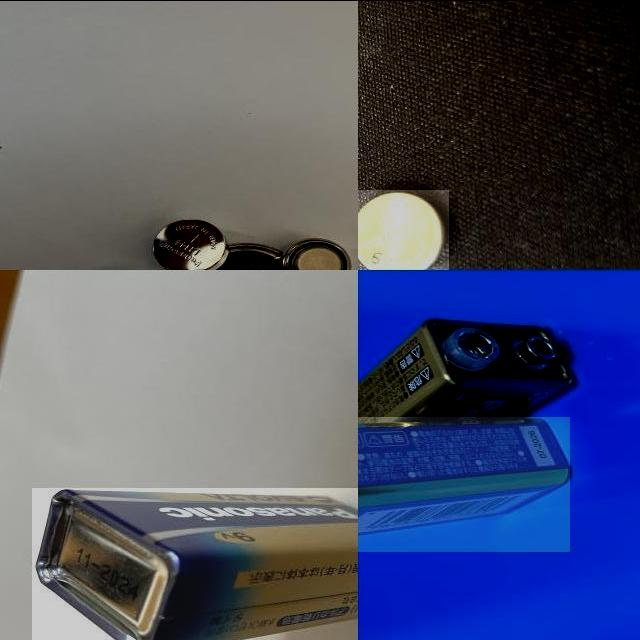9V: (32, 487, 358, 640), (358, 416, 570, 551), (358, 317, 571, 427)
